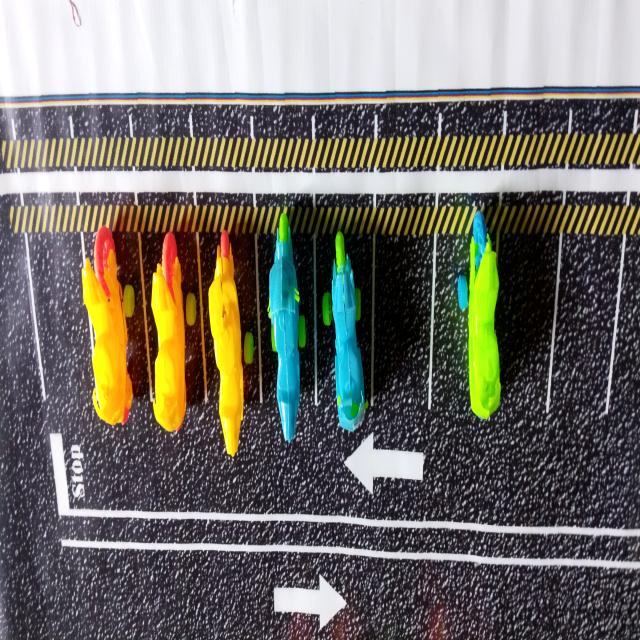occupied: (431, 211, 501, 419), (82, 226, 149, 425), (200, 231, 259, 456), (258, 224, 316, 442), (141, 232, 204, 431), (316, 231, 373, 431)
slots: (549, 236, 622, 439), (29, 234, 98, 432), (491, 235, 559, 429), (373, 236, 432, 410)
